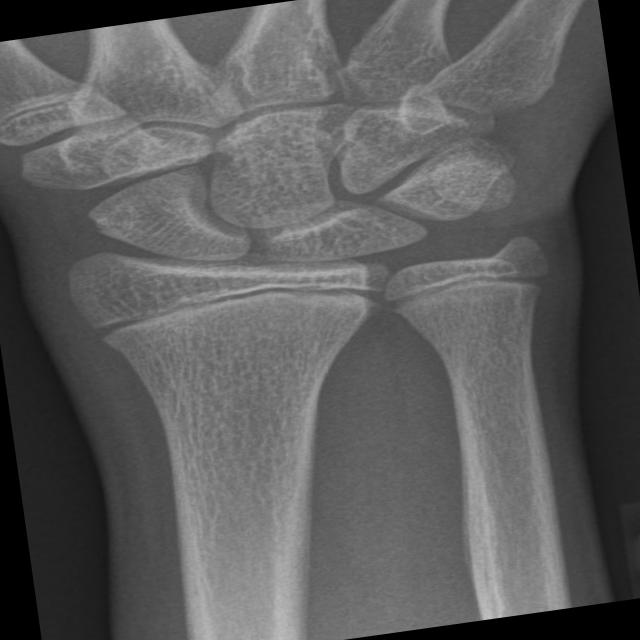fracture: (61, 254, 402, 367), (355, 243, 586, 332)
